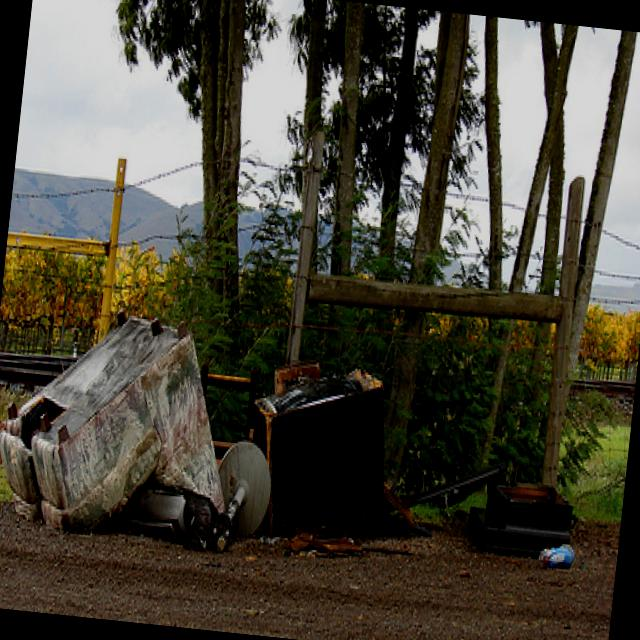garbage: (0, 283, 601, 590)
